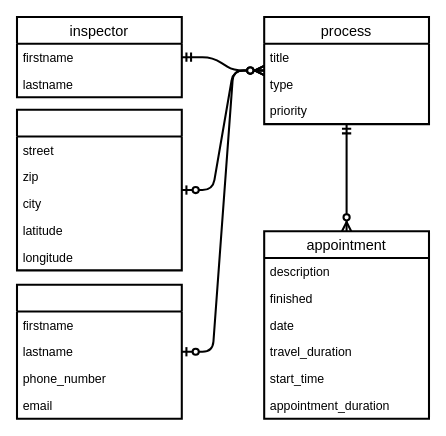
This 446x436 diagram has some shape labels left out. The shapes that lost their labels are listed below. From the top down, each one's box as (x1, y1, x2, y2) in pixels, then its label:
(15, 108, 182, 271): location
(15, 283, 182, 419): contact
